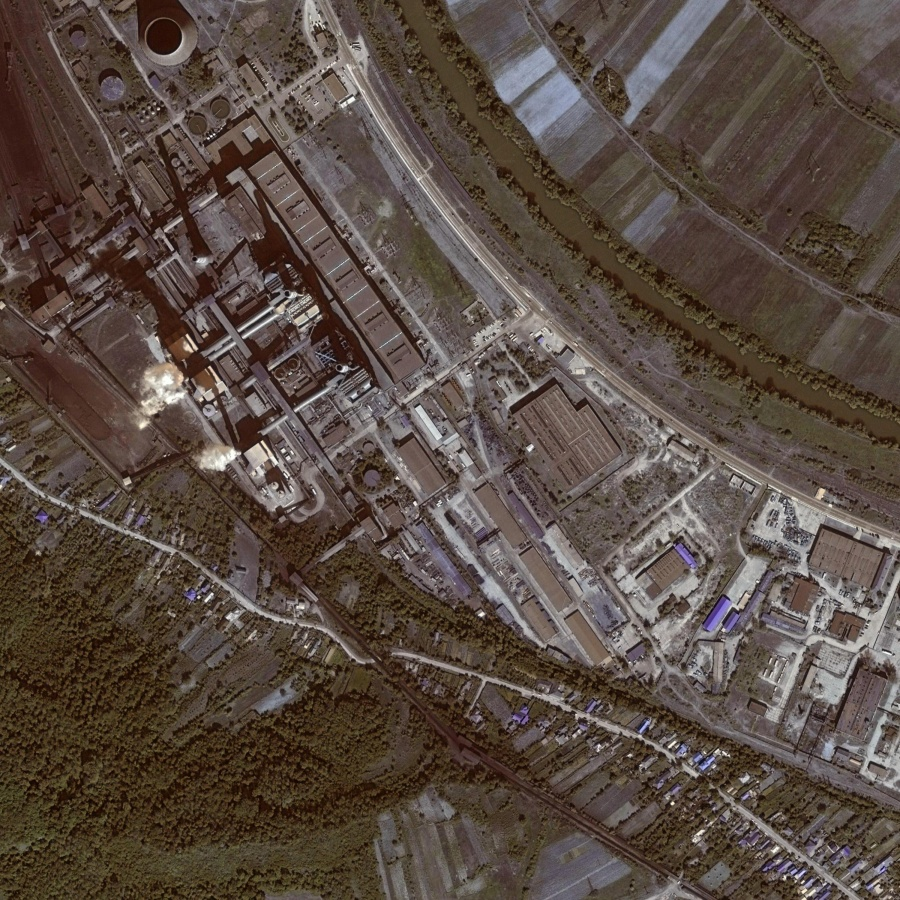PowerPlant: (24, 271, 239, 500)
